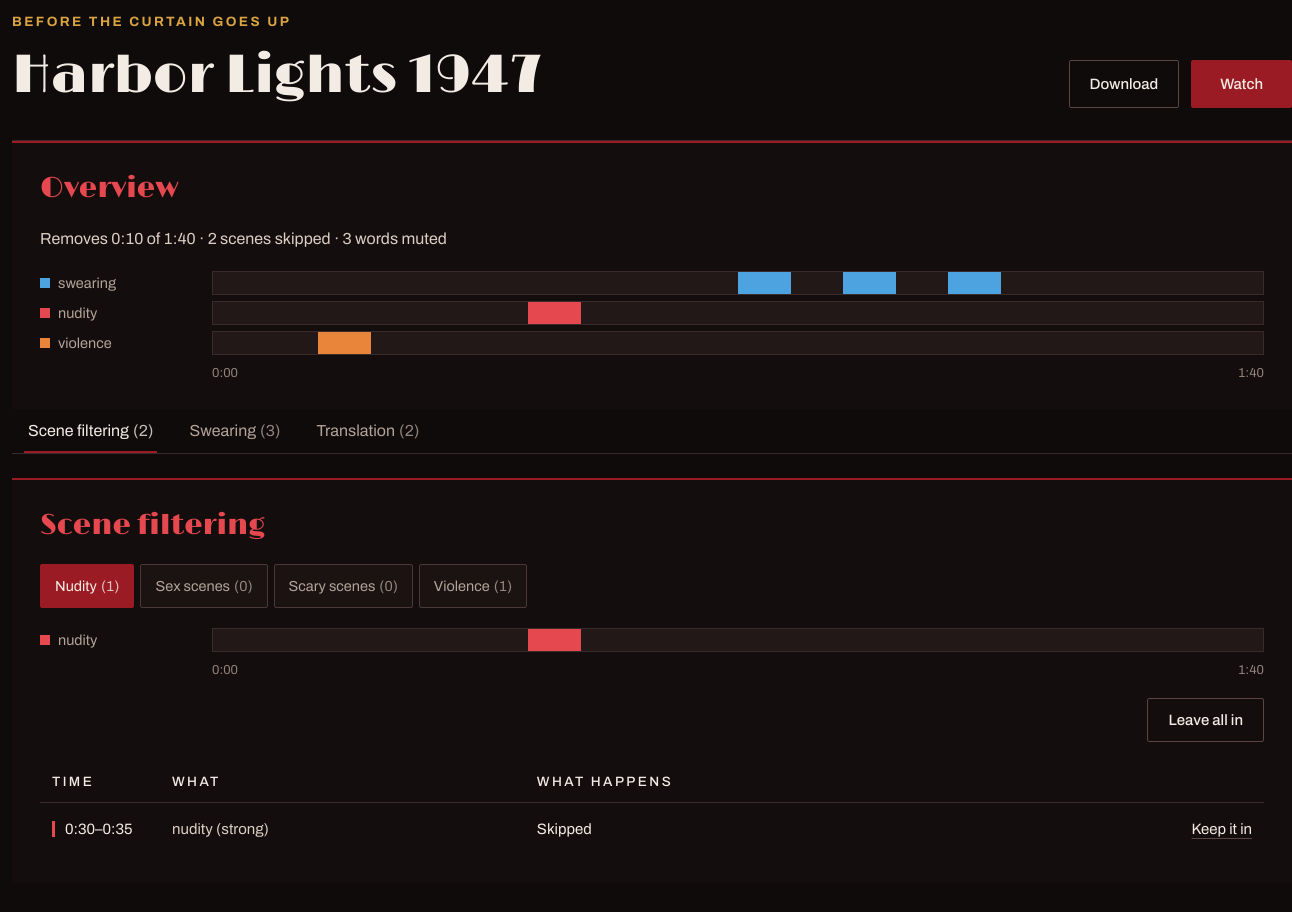
Scenario: ReviewPage tabs › has one tab per kind of scene, showing only that kind
The image size is (1292, 912).
Check: the text "nudity (strong)" is shown, box [160,802,525,854]
Check: the text "violence (strong)" is not shown
Click the tab "Violence (1)" at (473, 586), box [419,564,527,608]
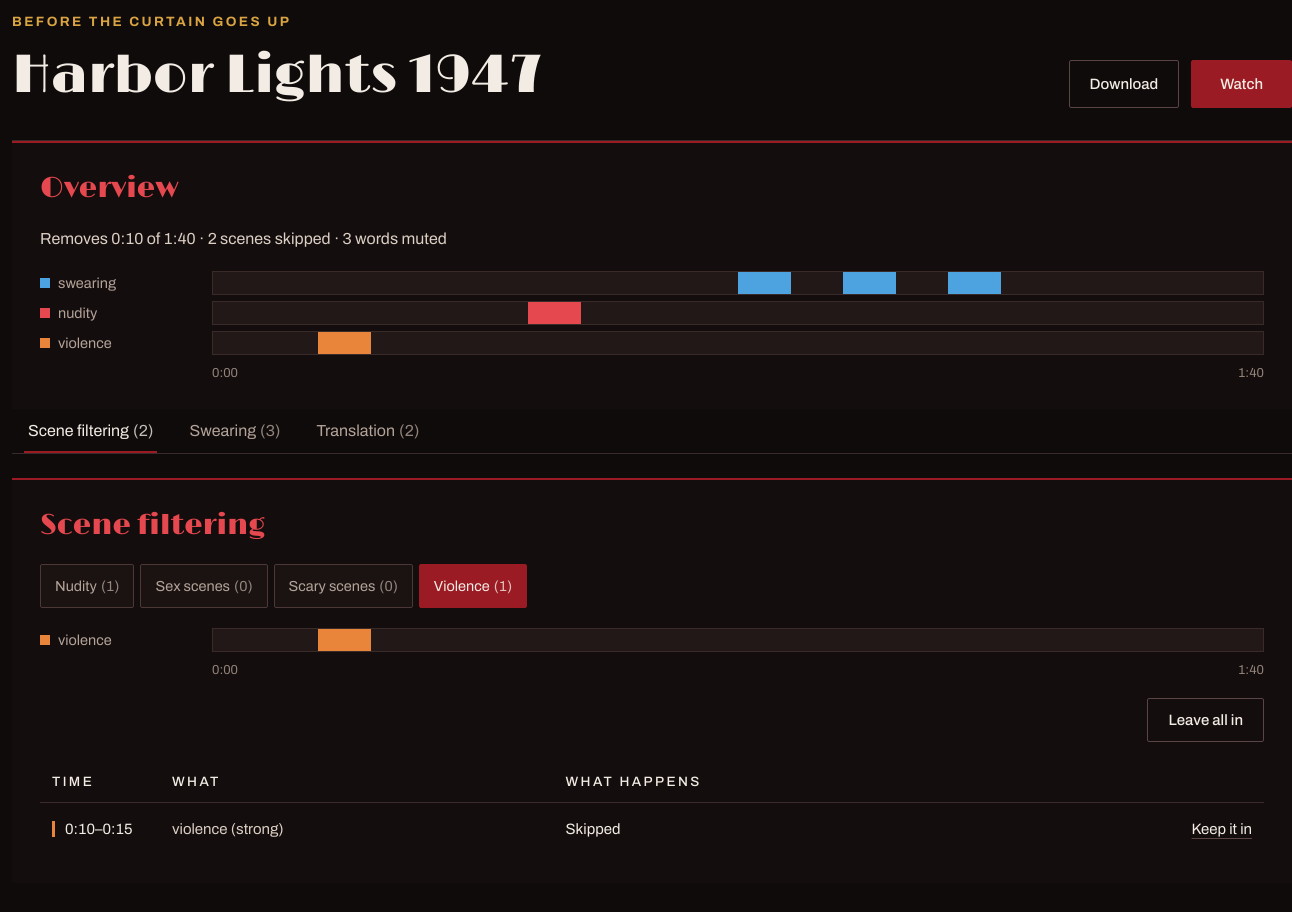
Check: the text "violence (strong)" is shown, box [160,802,554,854]
Check: the text "nudity (strong)" is gone
